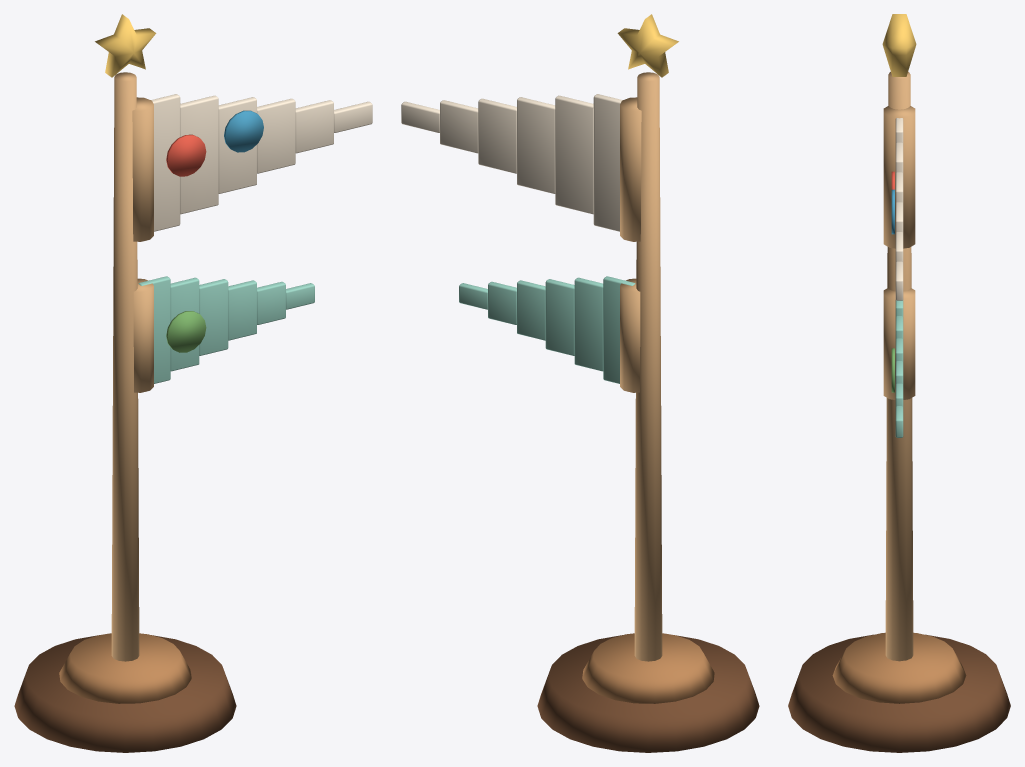
Rendered from stamp-flag.glb.
The picture shows the model from 3 angles, left to right: view 1: azimuth 30°, elevation 25°; view 2: azimuth 150°, elevation 25°; view 3: azimuth 270°, elevation 25°; orthographic projection.
Visible parts, largest first — view 1: pole, flag; view 2: pole, flag; view 3: pole, flag.
Part boxes in pixels (left/top/right/bottom): pole: left=14, top=14, right=236, bottom=752; flag: left=132, top=94, right=372, bottom=392; pole: left=537, top=14, right=759, bottom=752; flag: left=401, top=94, right=641, bottom=392; pole: left=788, top=14, right=1010, bottom=752; flag: left=883, top=106, right=915, bottom=437.
Bounding box in the file's own units: 0.711 × 1.37 × 0.4.
